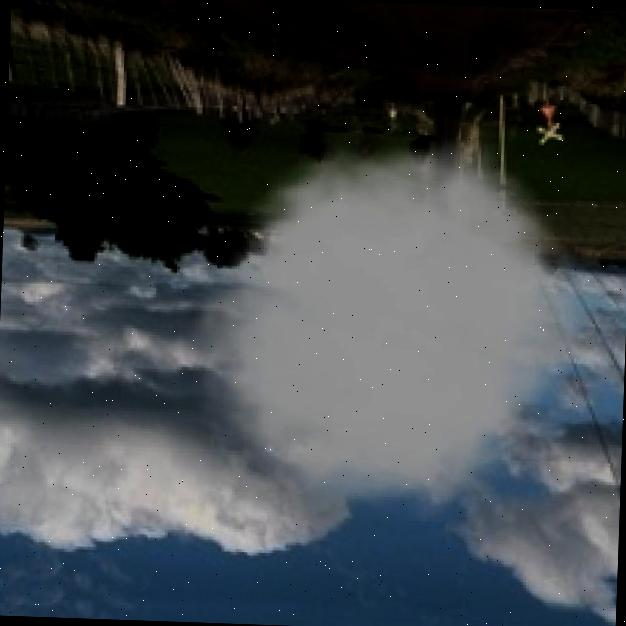smoke: (171, 112, 608, 527)
